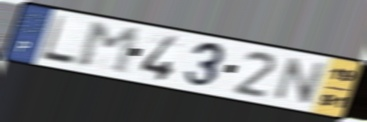2: (232, 51, 279, 99)
3: (182, 40, 229, 90)
4: (137, 33, 180, 83)
L: (38, 14, 78, 67)
M: (75, 20, 143, 77)
N: (270, 55, 331, 106)
